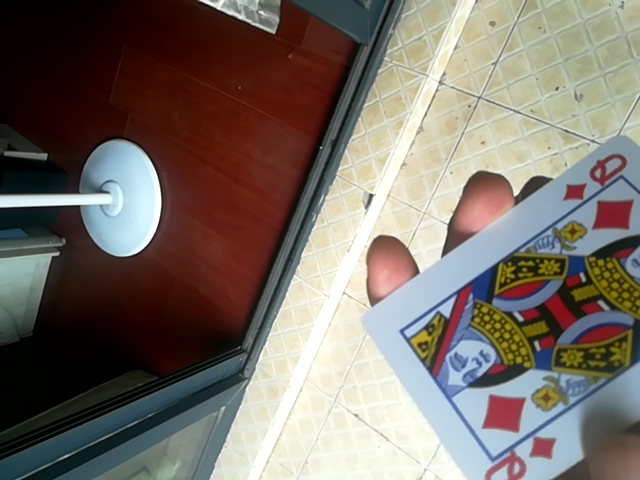fk q: (366, 136, 639, 478)
